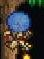zombie: (1, 0, 44, 59)
